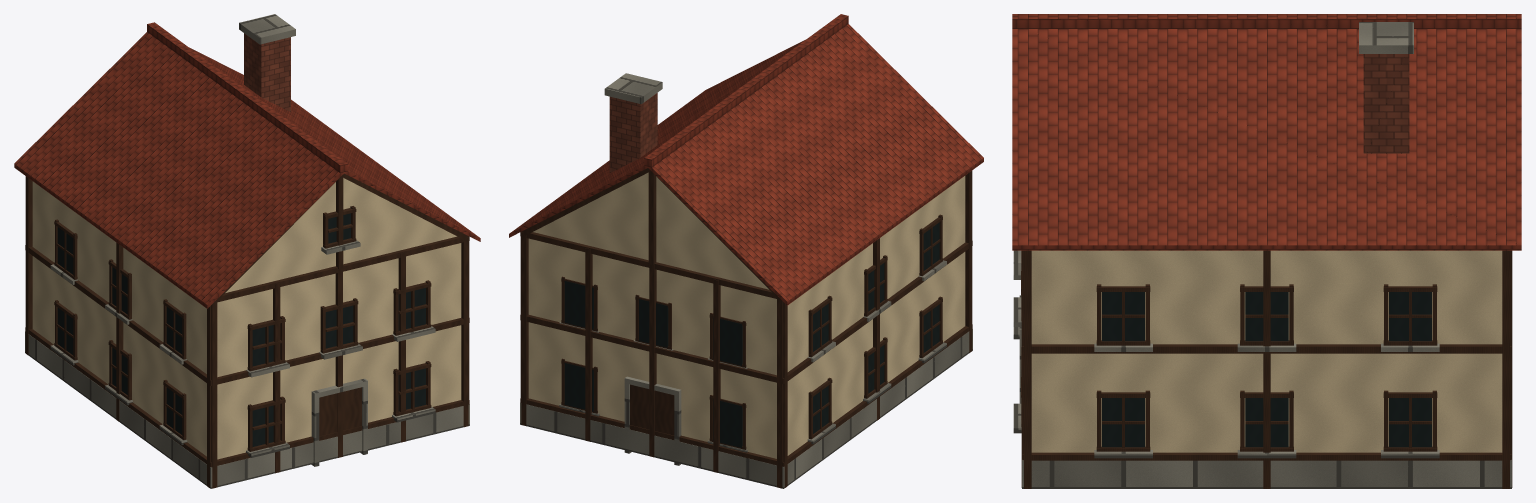
File: SG_House_E_Cottage_LOD1.fbx
3 views of the same model, side by side, from view 1: azimuth 30°, elevation 25°; view 2: azimuth 150°, elevation 25°; view 3: azimuth 270°, elevation 25° (orthographic). The views are drawn at different scales.
Parts seen in each view (by area): view 1: SG_House_E_Cottage_Detail1; view 2: SG_House_E_Cottage_Detail1; view 3: SG_House_E_Cottage_Detail1.
Part boxes in pixels (bbox=[...]): SG_House_E_Cottage_Detail1: bbox=[14, 14, 480, 488]; SG_House_E_Cottage_Detail1: bbox=[509, 14, 983, 488]; SG_House_E_Cottage_Detail1: bbox=[1012, 14, 1521, 488].
Size of the model in its own units: 17.4 by 19.25 by 21.3.
